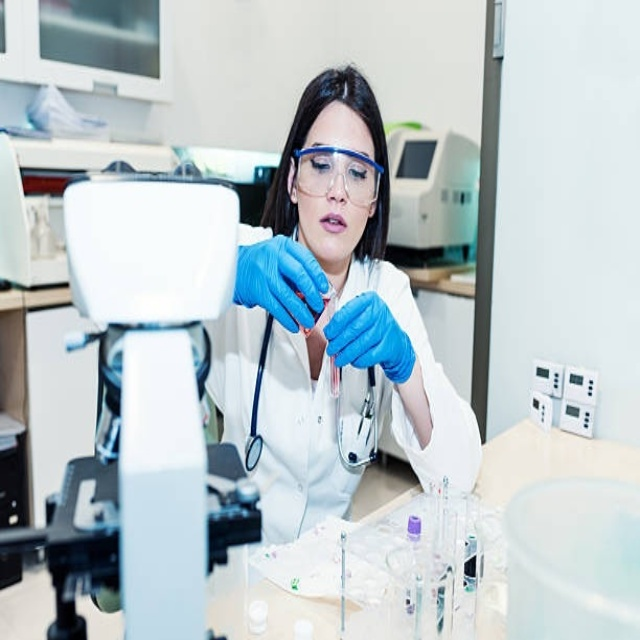Gafas: (293, 144, 384, 208)
Guantes: (235, 233, 331, 335), (322, 291, 417, 386)
Sin_mascara: (317, 210, 348, 253)
